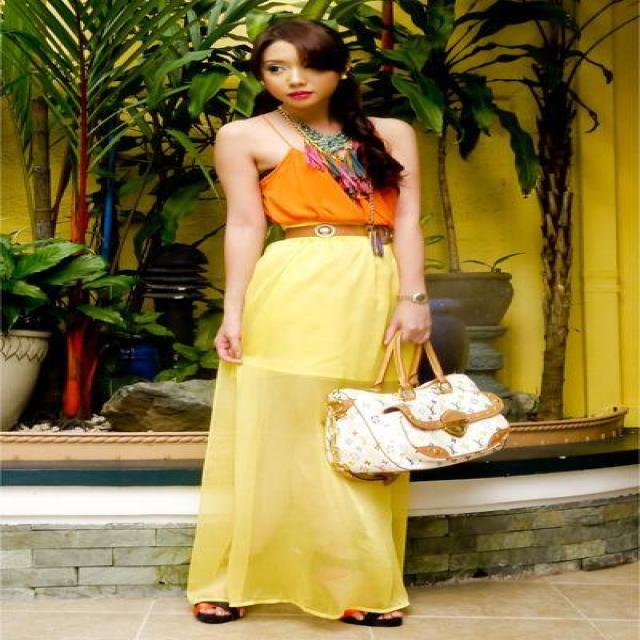bag: (298, 356, 540, 474)
shirt: (253, 125, 403, 257)
shoe: (194, 602, 403, 626)
skirt: (173, 232, 424, 618)
